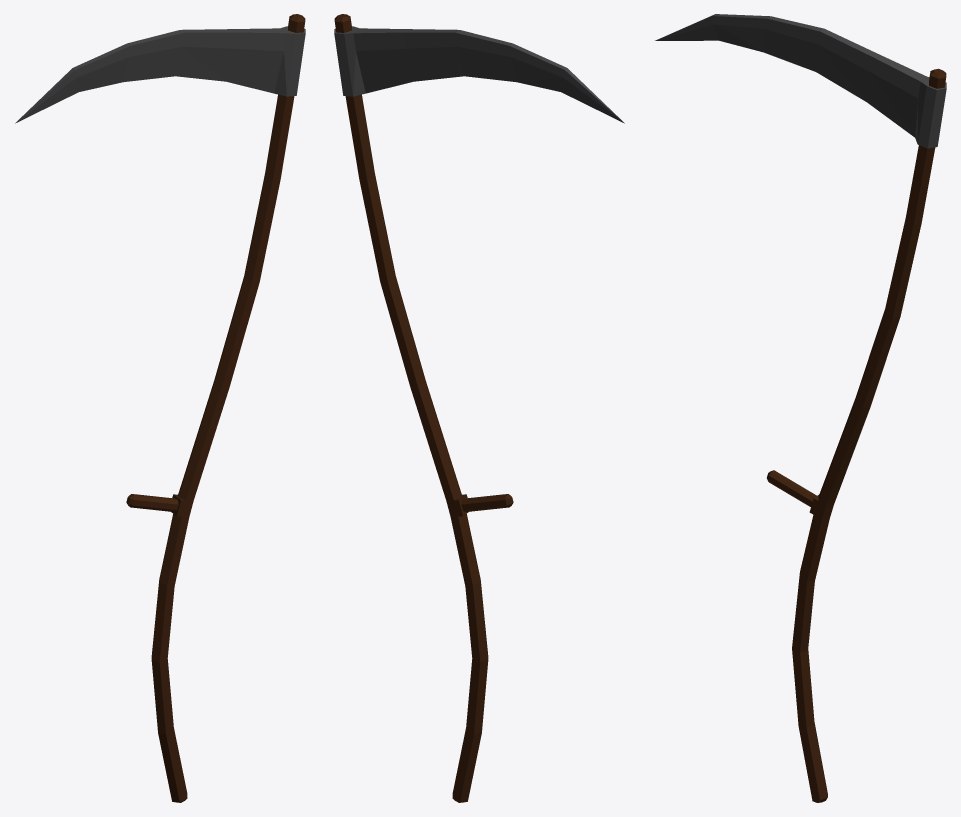
File: Scythe_FBX.fbx
3 renders of one model, left to right at view 1: azimuth 30°, elevation 25°; view 2: azimuth 150°, elevation 25°; view 3: azimuth 330°, elevation 25°, orthographic.
Visible parts, largest first — view 1: Scythe; view 2: Scythe; view 3: Scythe.
Part boxes in pixels (bbox=[...]): Scythe: bbox=[15, 14, 305, 802]; Scythe: bbox=[334, 14, 624, 802]; Scythe: bbox=[655, 14, 946, 802].
Size of the model in its own units: 58.6 by 148 by 3.5.
